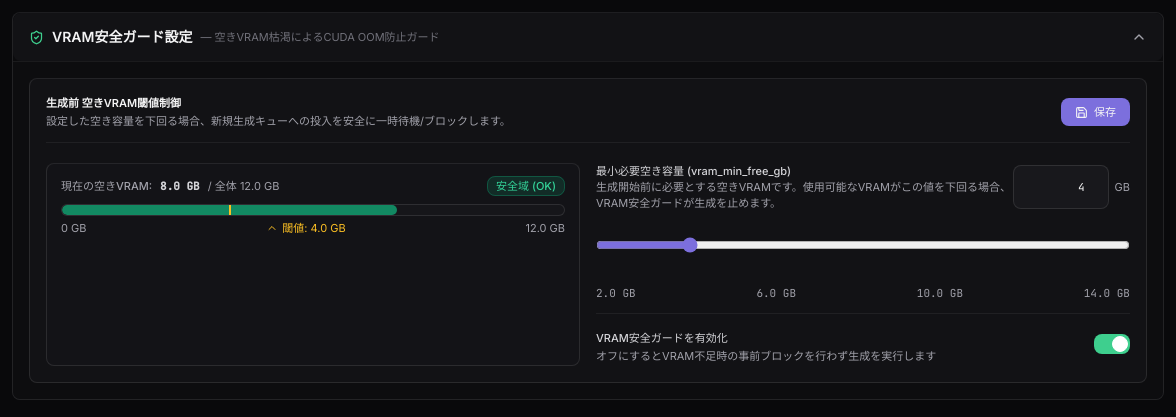
Test: SettingsPage Integration › VRAM Guard & Display Operations (REQ-334) › [REQ-334/AC-2] shows success only after save resolves and reports the exact success message
Replace the text in the number field labelled "最小必要空き容量 (vram_min_free_gb)" with "5". click: {"x": 1061, "y": 186}
box: [1013,164,1109,208]
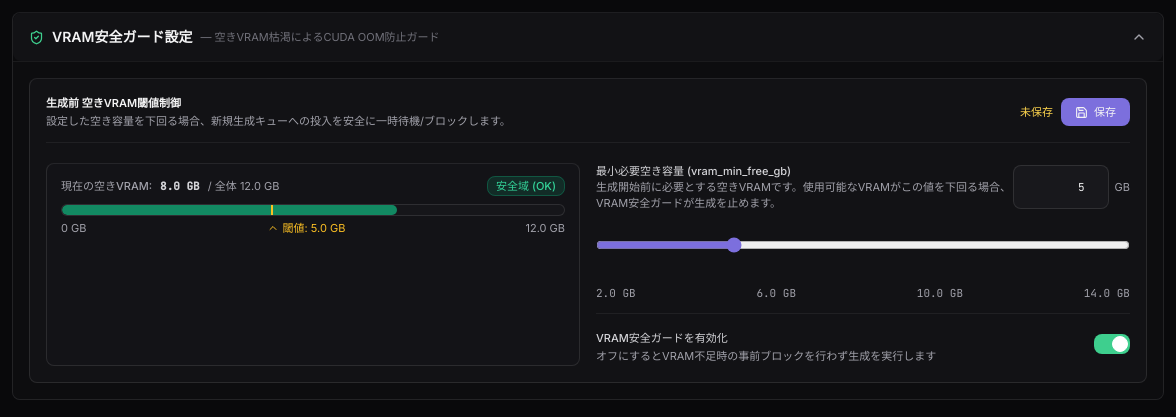
Click the button with aria-label "VRAM安全ガード設定を保存". click: {"x": 1096, "y": 112}
box: [1061,98,1130,126]
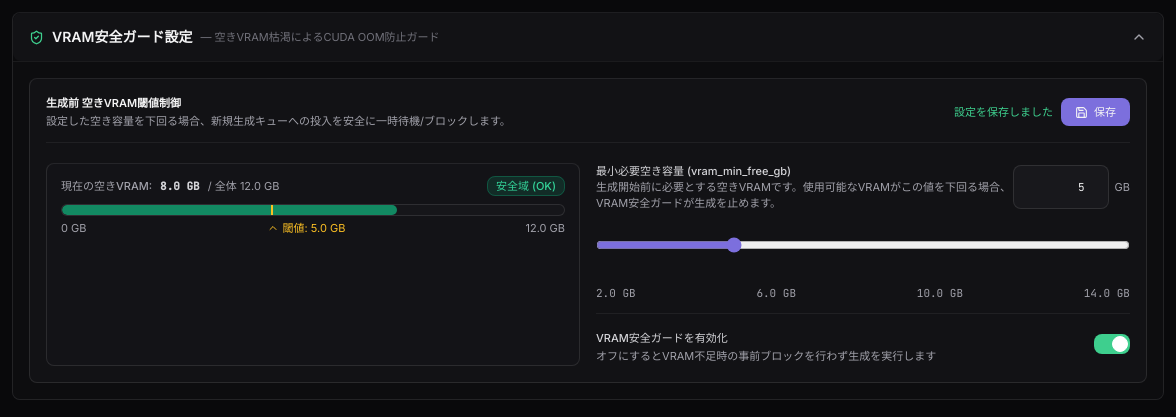
Check: the text "設定を保存しました" is shown, box [954,104,1053,120]
